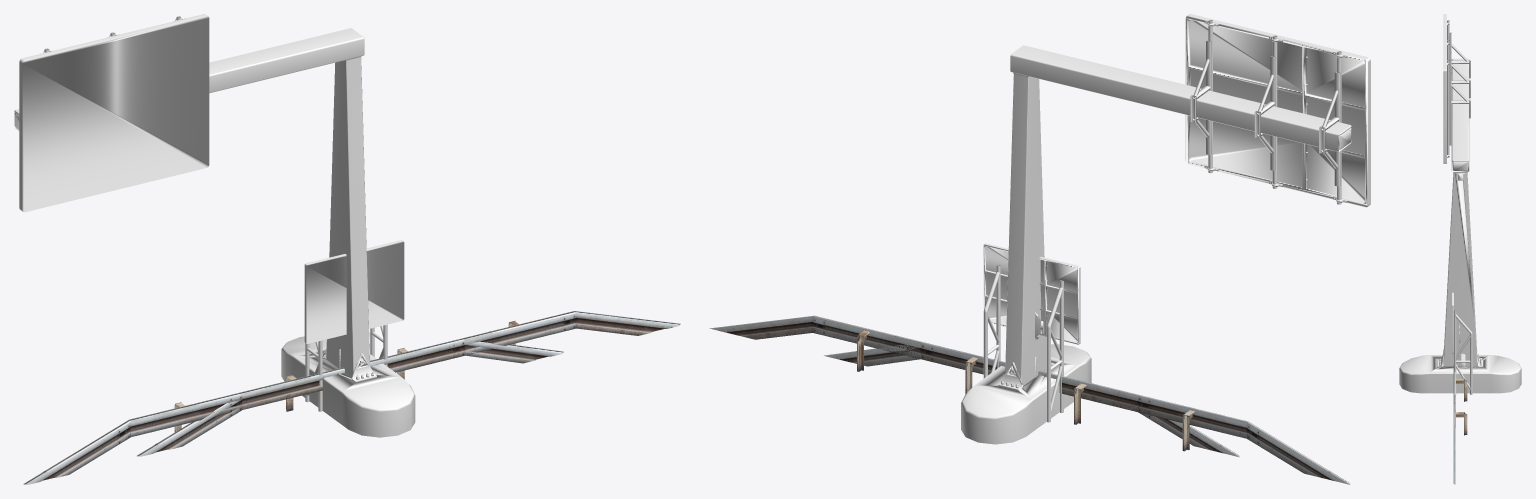
Rendered from schilder.fbx.
3 views of the same model, side by side, from view 1: azimuth 30°, elevation 25°; view 2: azimuth 150°, elevation 25°; view 3: azimuth 270°, elevation 25° (orthographic). The views are drawn at different scales.
Visible parts, largest first — view 1: schild_ortsausfahrt_oben, leitplanke_lang, schild_ortsausfahrt_seite, leitplanke_kurz; view 2: schild_ortsausfahrt_oben, leitplanke_lang, schild_ortsausfahrt_seite, leitplanke_kurz; view 3: schild_ortsausfahrt_oben, schild_ortsausfahrt_seite, leitplanke_lang, leitplanke_kurz.
Boxes of the visible parts, box(x1,y1,x2,y2) form: schild_ortsausfahrt_oben: box(14, 14, 415, 437); leitplanke_lang: box(23, 311, 680, 484); schild_ortsausfahrt_seite: box(304, 240, 404, 411); leitplanke_kurz: box(137, 341, 563, 456); schild_ortsausfahrt_oben: box(961, 14, 1370, 444); leitplanke_lang: box(709, 315, 1350, 484); schild_ortsausfahrt_seite: box(983, 243, 1080, 422); leitplanke_kurz: box(824, 342, 1239, 457); schild_ortsausfahrt_oben: box(1399, 14, 1521, 393); schild_ortsausfahrt_seite: box(1452, 292, 1472, 394); leitplanke_lang: box(1453, 366, 1467, 484); leitplanke_kurz: box(1453, 365, 1467, 401).
Size of the model in its own units: 1502 by 933 by 384.
